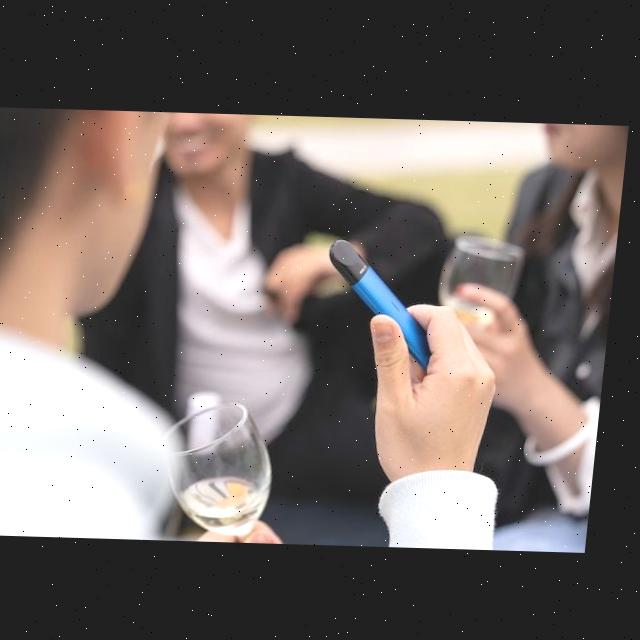vape: (324, 236, 446, 367)
